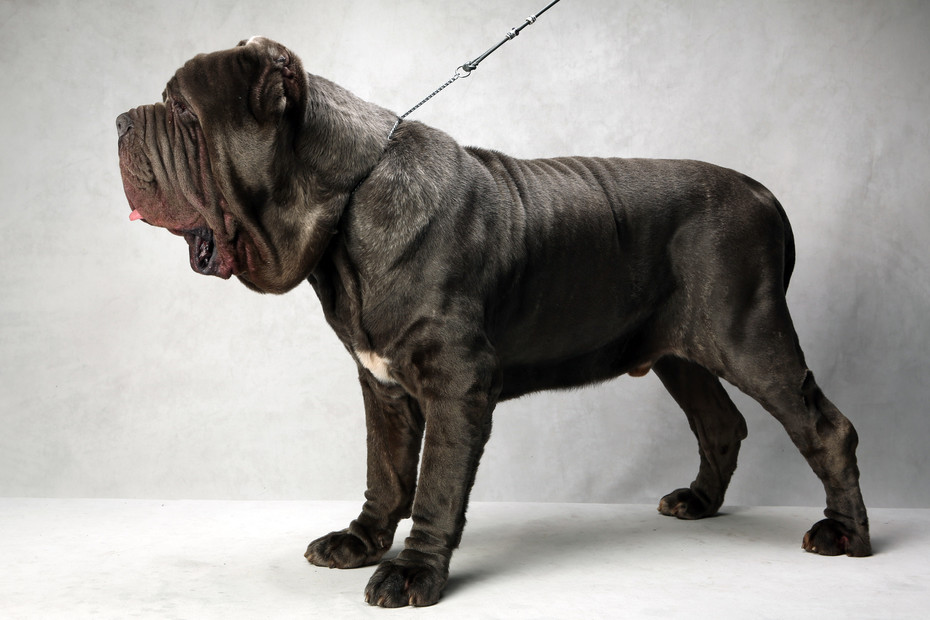neapolitan_mastiff: (115, 34, 873, 609)
